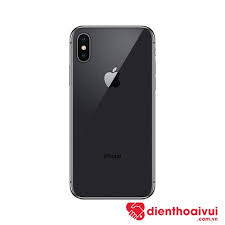iphone: (70, 23, 156, 198)
